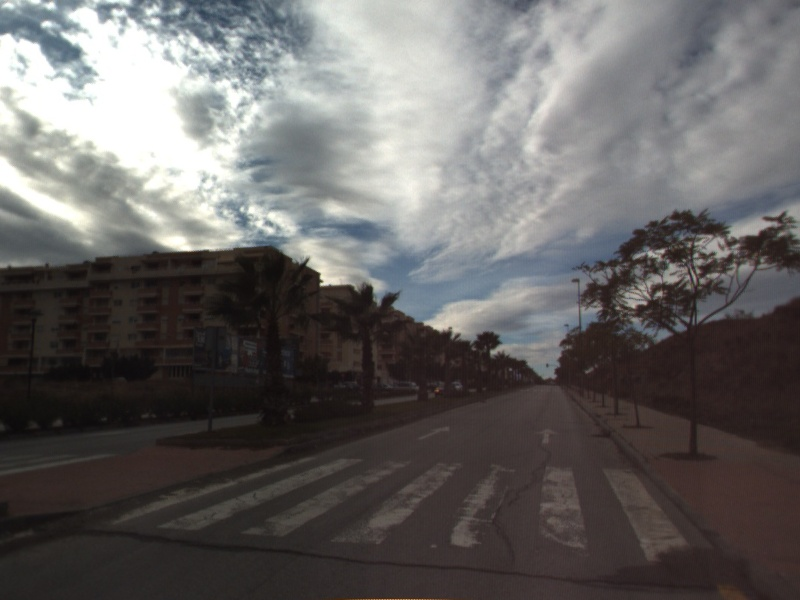STRAIGHT: (416, 424, 452, 441), (534, 426, 562, 445)
